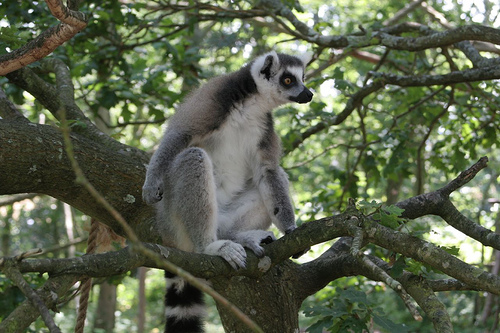cat: (139, 46, 315, 274)
